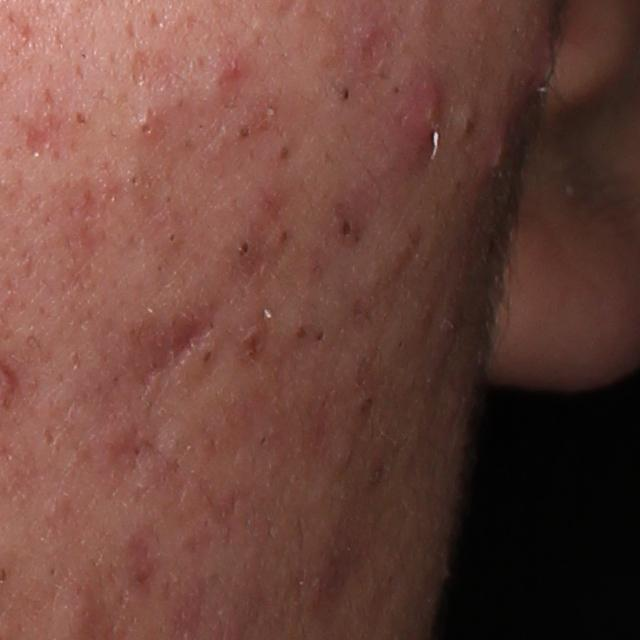atrophic_scar: (128, 305, 217, 395), (314, 526, 367, 626), (115, 421, 171, 479), (124, 48, 181, 94), (18, 112, 61, 161)
comedo: (454, 111, 476, 137), (336, 214, 352, 239), (163, 229, 181, 251), (200, 347, 216, 371), (336, 86, 353, 106), (125, 171, 142, 191), (137, 120, 153, 141), (278, 226, 295, 245), (237, 241, 252, 262), (275, 146, 292, 163), (292, 325, 306, 342), (313, 329, 327, 344), (73, 113, 86, 128), (236, 125, 248, 141)
papule: (400, 84, 443, 159), (486, 129, 509, 176), (214, 53, 245, 86)
